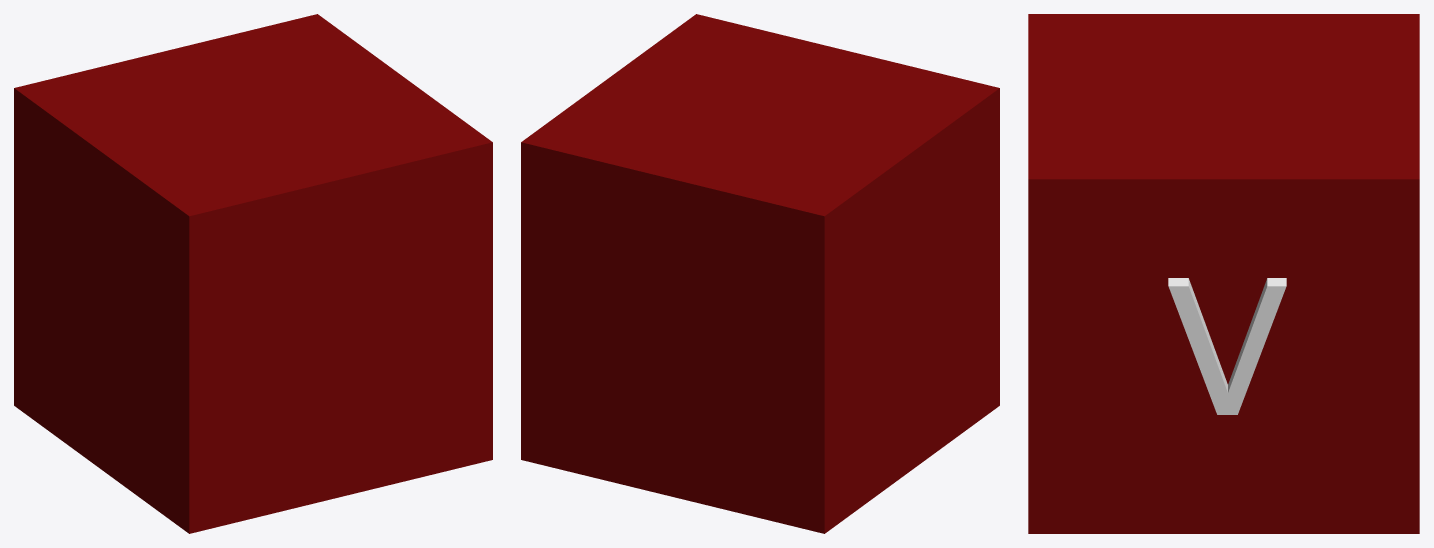
3 renders of one model, left to right at view 1: azimuth 30°, elevation 25°; view 2: azimuth 150°, elevation 25°; view 3: azimuth 270°, elevation 25°, orthographic. The views are drawn at different scales.
Parts seen in each view (by area): view 1: SketchUp; view 2: SketchUp; view 3: SketchUp, V.
Boxes of the visible parts, x1=… form: SketchUp: x1=14, y1=14, x2=492, y2=533; SketchUp: x1=521, y1=14, x2=999, y2=533; SketchUp: x1=1028, y1=14, x2=1419, y2=533; V: x1=1168, y1=278, x2=1286, y2=414.
Size of the model in its own units: 21 by 20 by 20.
